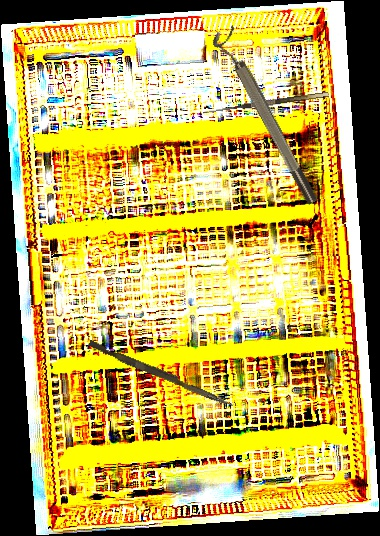Fixation Ring: (209, 24, 321, 211)
Hook Surgical: (202, 91, 330, 122)
Pusher: (86, 339, 237, 409)
